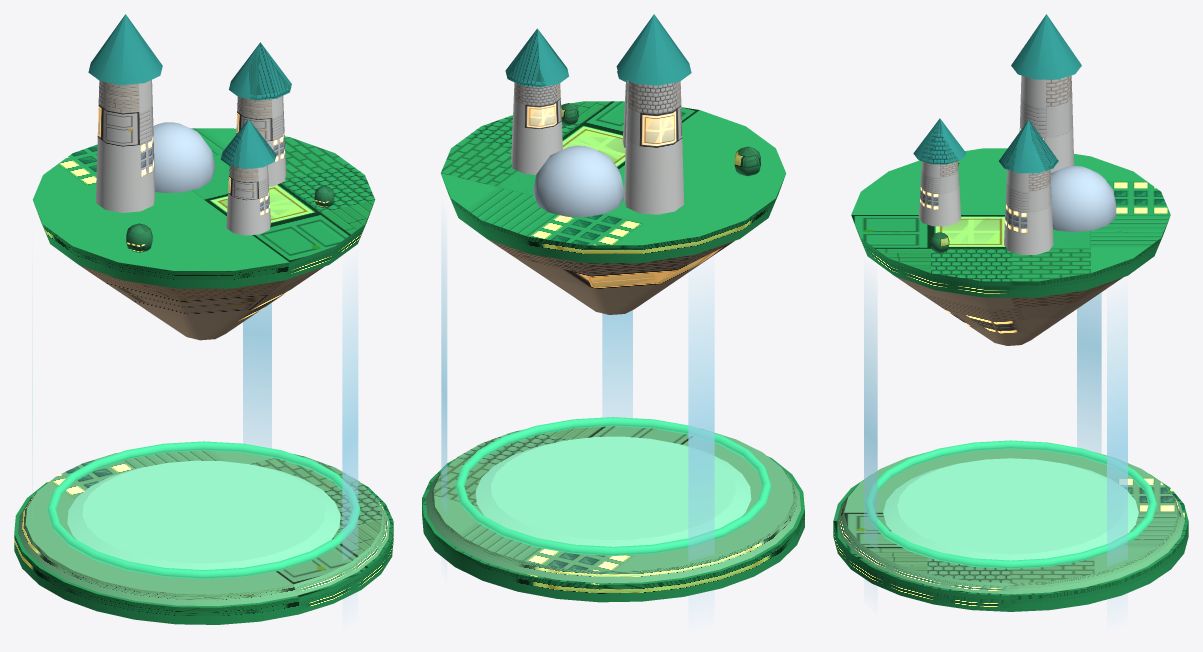
Rendered from tier-17-sky-citadel.glb.
3 renders of one model, left to right at view 1: azimuth 30°, elevation 25°; view 2: azimuth 150°, elevation 25°; view 3: azimuth 270°, elevation 25°, orthographic. The views are drawn at different scales.
Parts seen in each view (by area): view 1: toon (×2), glow, water, gloss; view 2: toon (×2), glow, water, gloss; view 3: toon (×2), glow, water, gloss.
Part boxes in pixels (<box>): toon (×2): <box>14,14,393,624</box>; glow: <box>47,441,360,579</box>; water: <box>32,278,358,601</box>; gloss: <box>153,122,215,192</box>; toon (×2): <box>422,14,804,602</box>; glow: <box>455,417,771,555</box>; water: <box>441,230,714,601</box>; gloss: <box>533,145,624,217</box>; toon (×2): <box>833,14,1188,611</box>; glow: <box>864,440,1157,568</box>; water: <box>864,285,1127,604</box>; gloss: <box>1050,166,1116,232</box>.
Bounding box in the file's own units: 1 × 1.69 × 1.
Materials: 4 (2 with a texture image).
